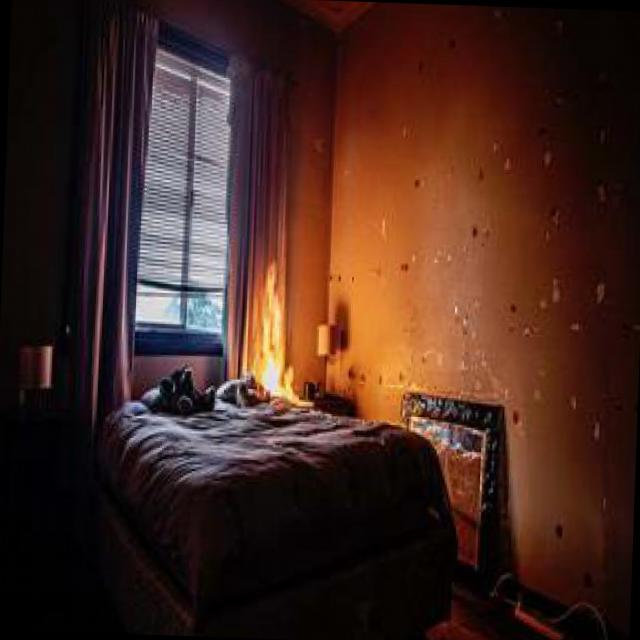fire: (252, 269, 296, 399)
